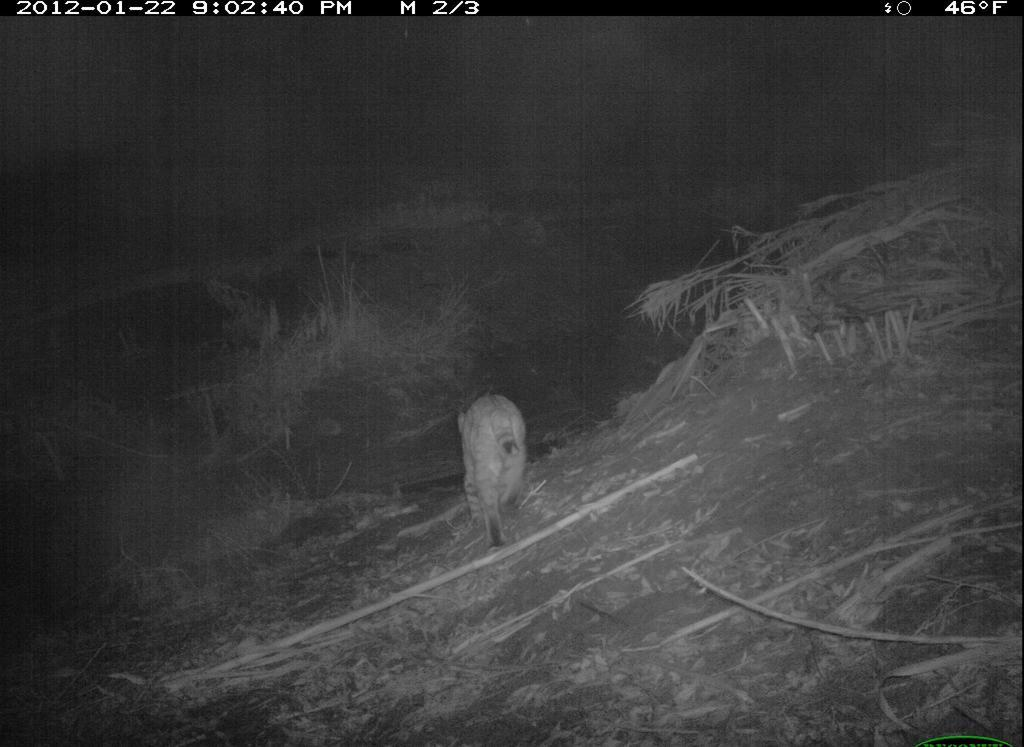bobcat: (429, 383, 552, 559)
